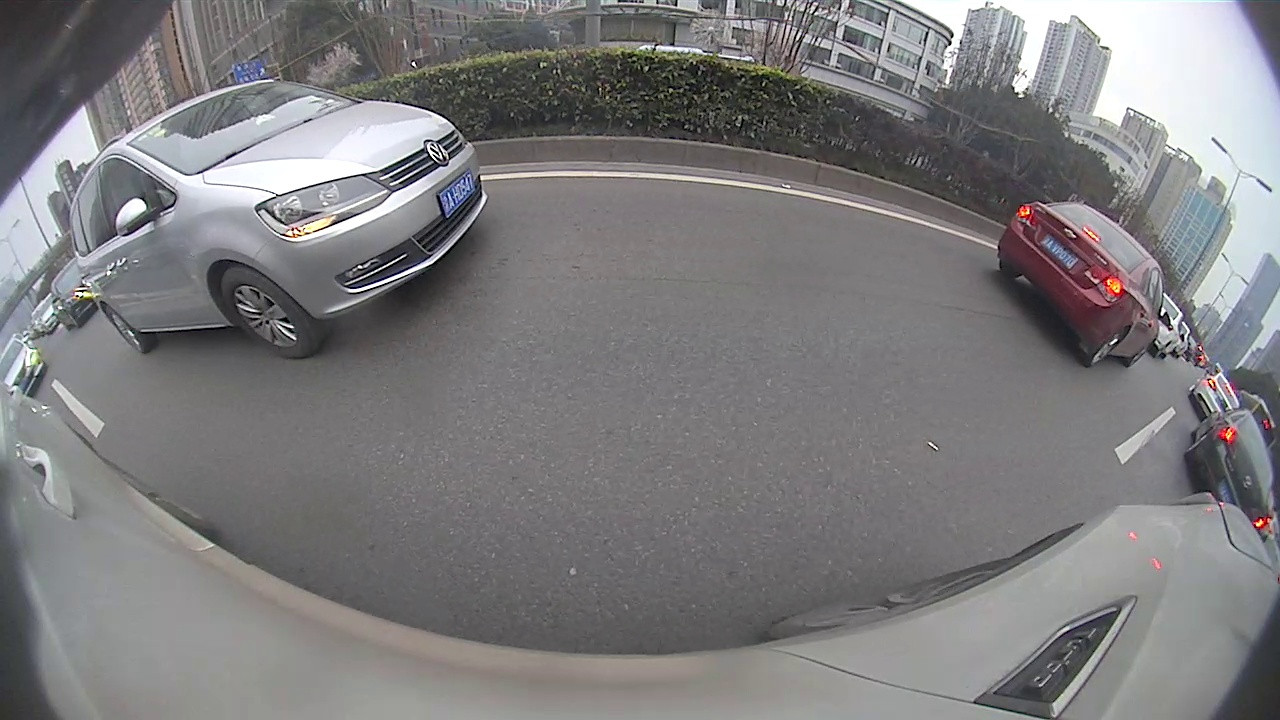car: (68, 77, 489, 361), (997, 200, 1173, 370), (1182, 401, 1277, 543), (49, 256, 100, 330), (1, 333, 46, 398), (1190, 372, 1245, 425)
front: (220, 266, 316, 359)
rear: (104, 305, 148, 353), (1085, 328, 1128, 367)
